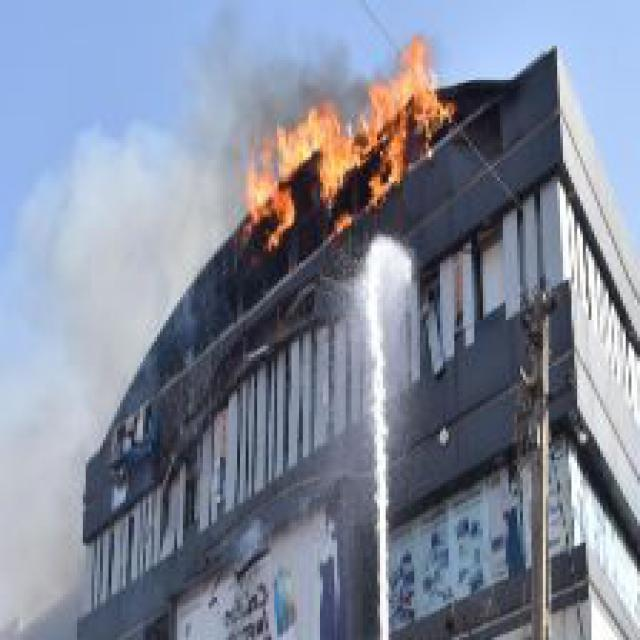fire: (240, 15, 457, 252)
